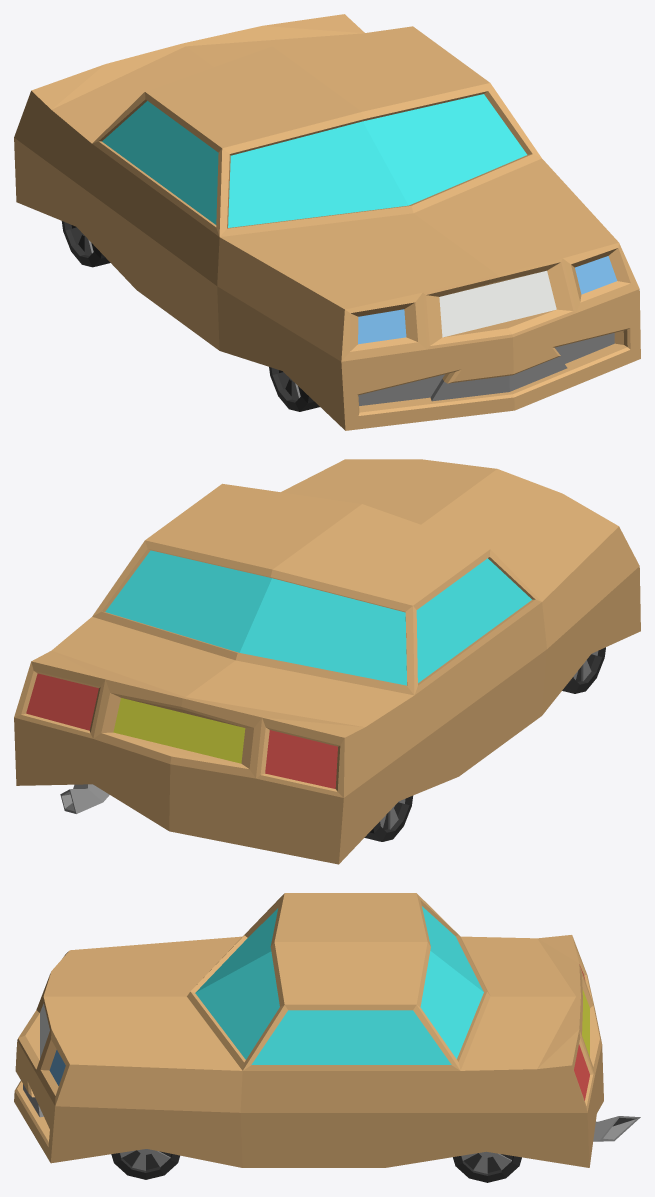
File: LowPolySportsCar_LODs.fbx
The picture shows the model from 3 angles, top to bottom: view 1: azimuth 30°, elevation 25°; view 2: azimuth 150°, elevation 25°; view 3: azimuth 270°, elevation 25°; orthographic projection. The views are drawn at different scales.
Visible parts, largest first — view 1: Chassis_LOD0, WheelsFront_LOD0, WheelsBack_LOD0; view 2: Chassis_LOD0, WheelsBack_LOD0, WheelsFront_LOD0; view 3: Chassis_LOD0, WheelsBack_LOD0, WheelsFront_LOD0.
Boxes of the visible parts, box(x1,y1,x2,y2) form: Chassis_LOD0: box(14, 14, 640, 430); WheelsFront_LOD0: box(269, 367, 319, 411); WheelsBack_LOD0: box(61, 221, 110, 267); Chassis_LOD0: box(14, 459, 640, 864); WheelsBack_LOD0: box(364, 795, 412, 841); WheelsFront_LOD0: box(562, 647, 605, 693); Chassis_LOD0: box(14, 893, 640, 1167); WheelsBack_LOD0: box(453, 1151, 521, 1182); WheelsFront_LOD0: box(111, 1149, 179, 1179).
Size of what is drawn, in the model's own units: 241 by 144 by 464.
